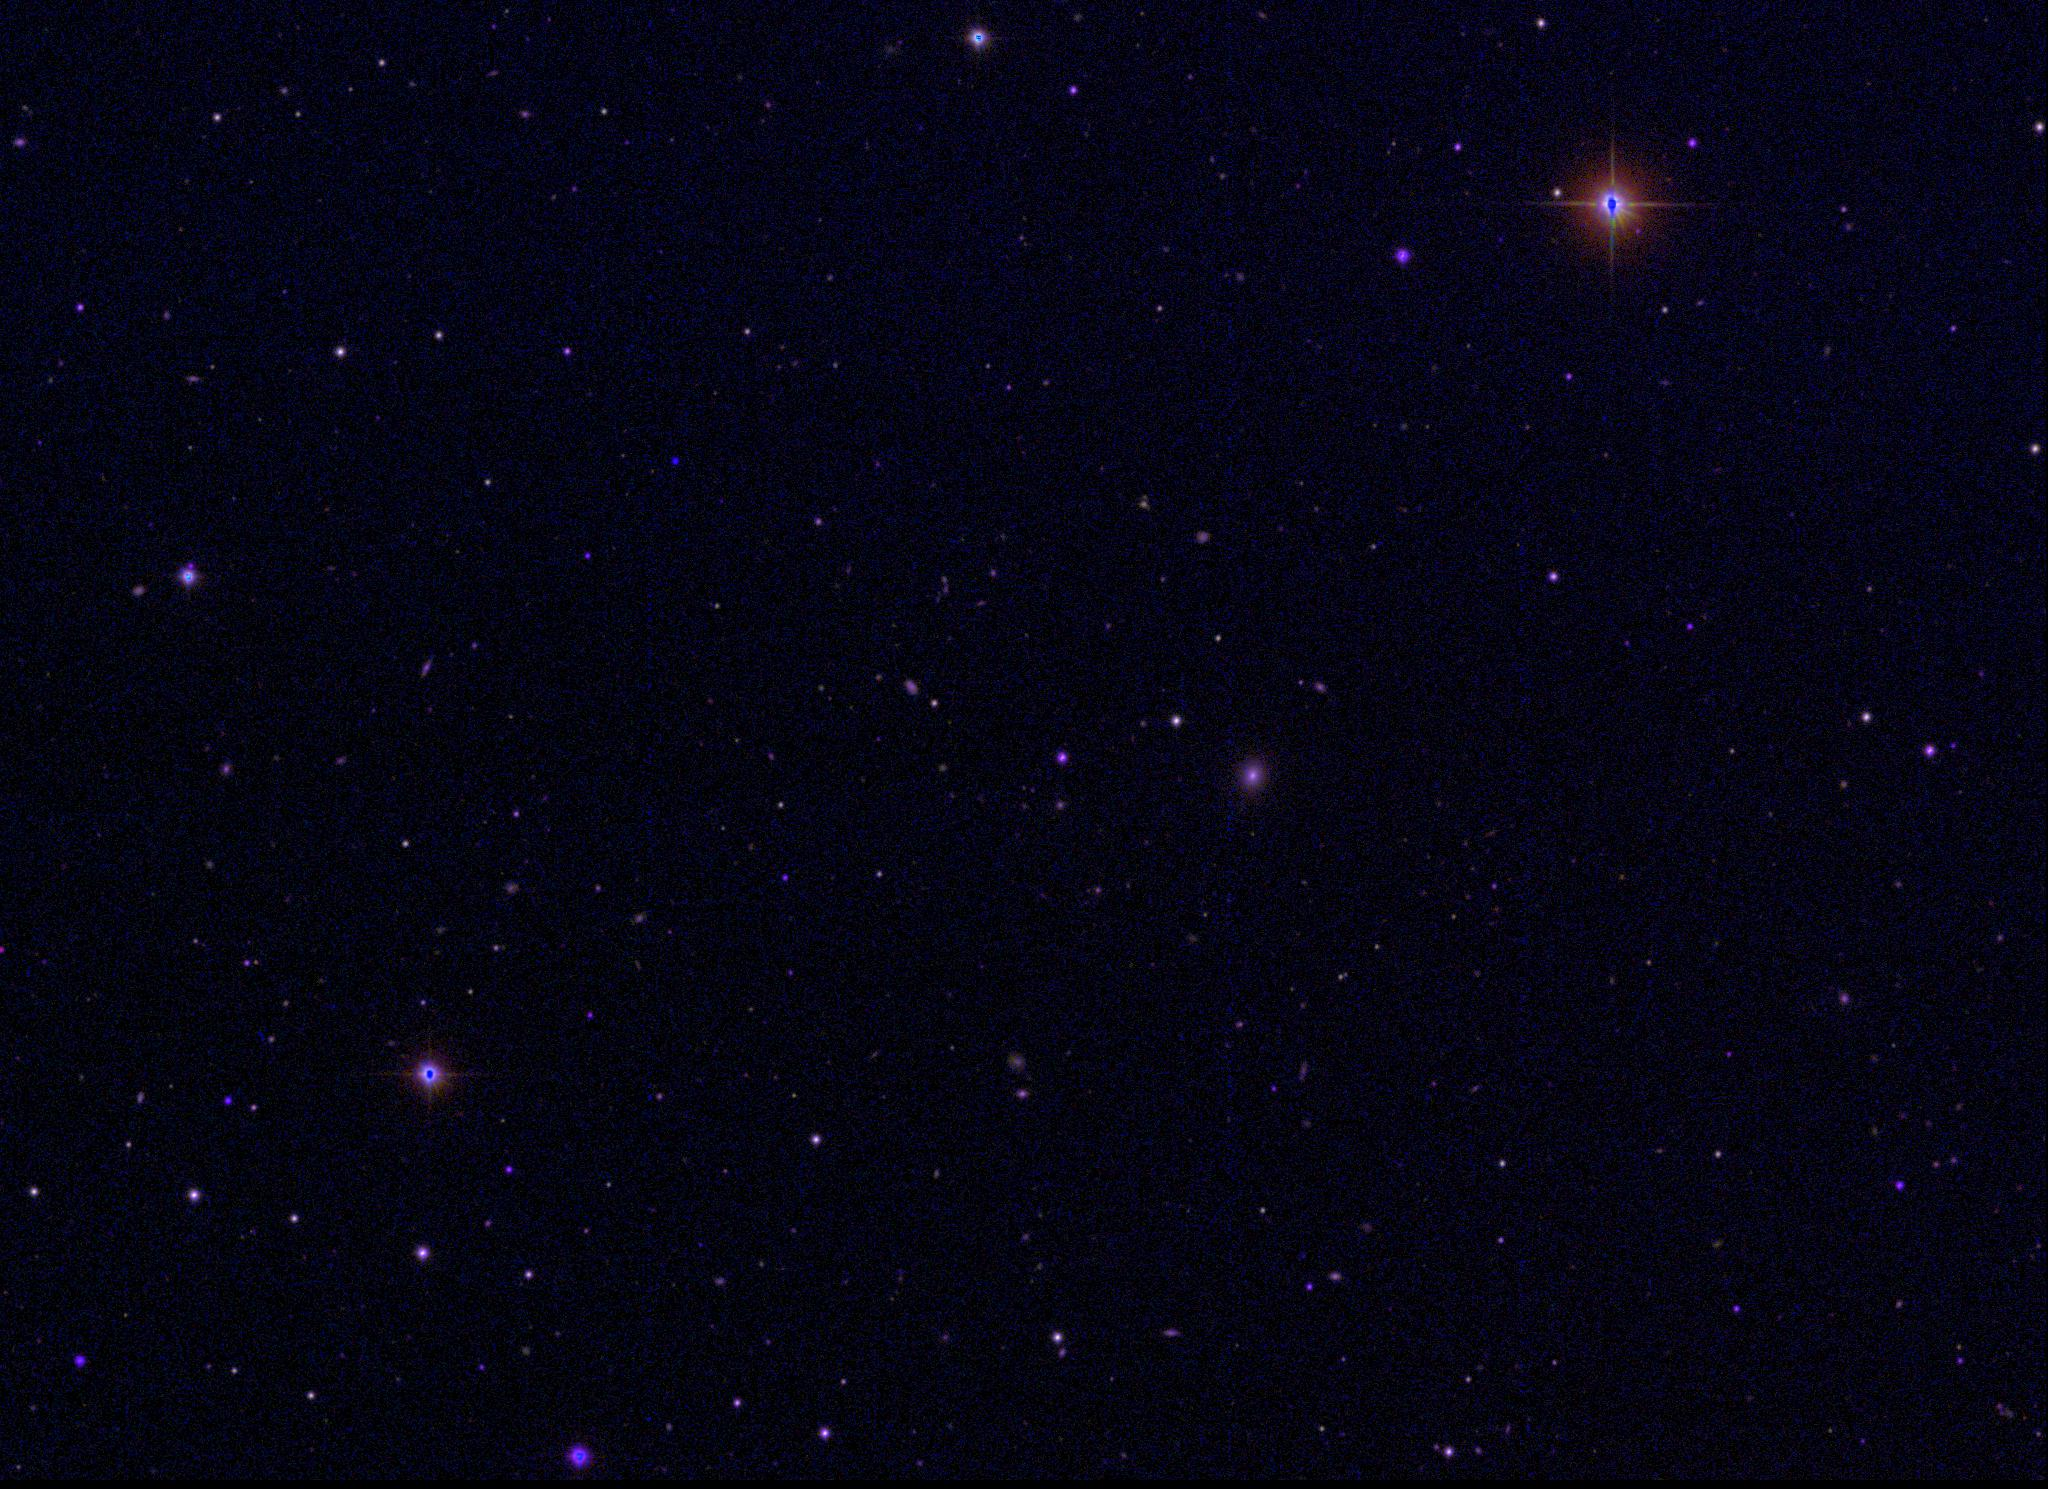L: (669, 453, 684, 468)
